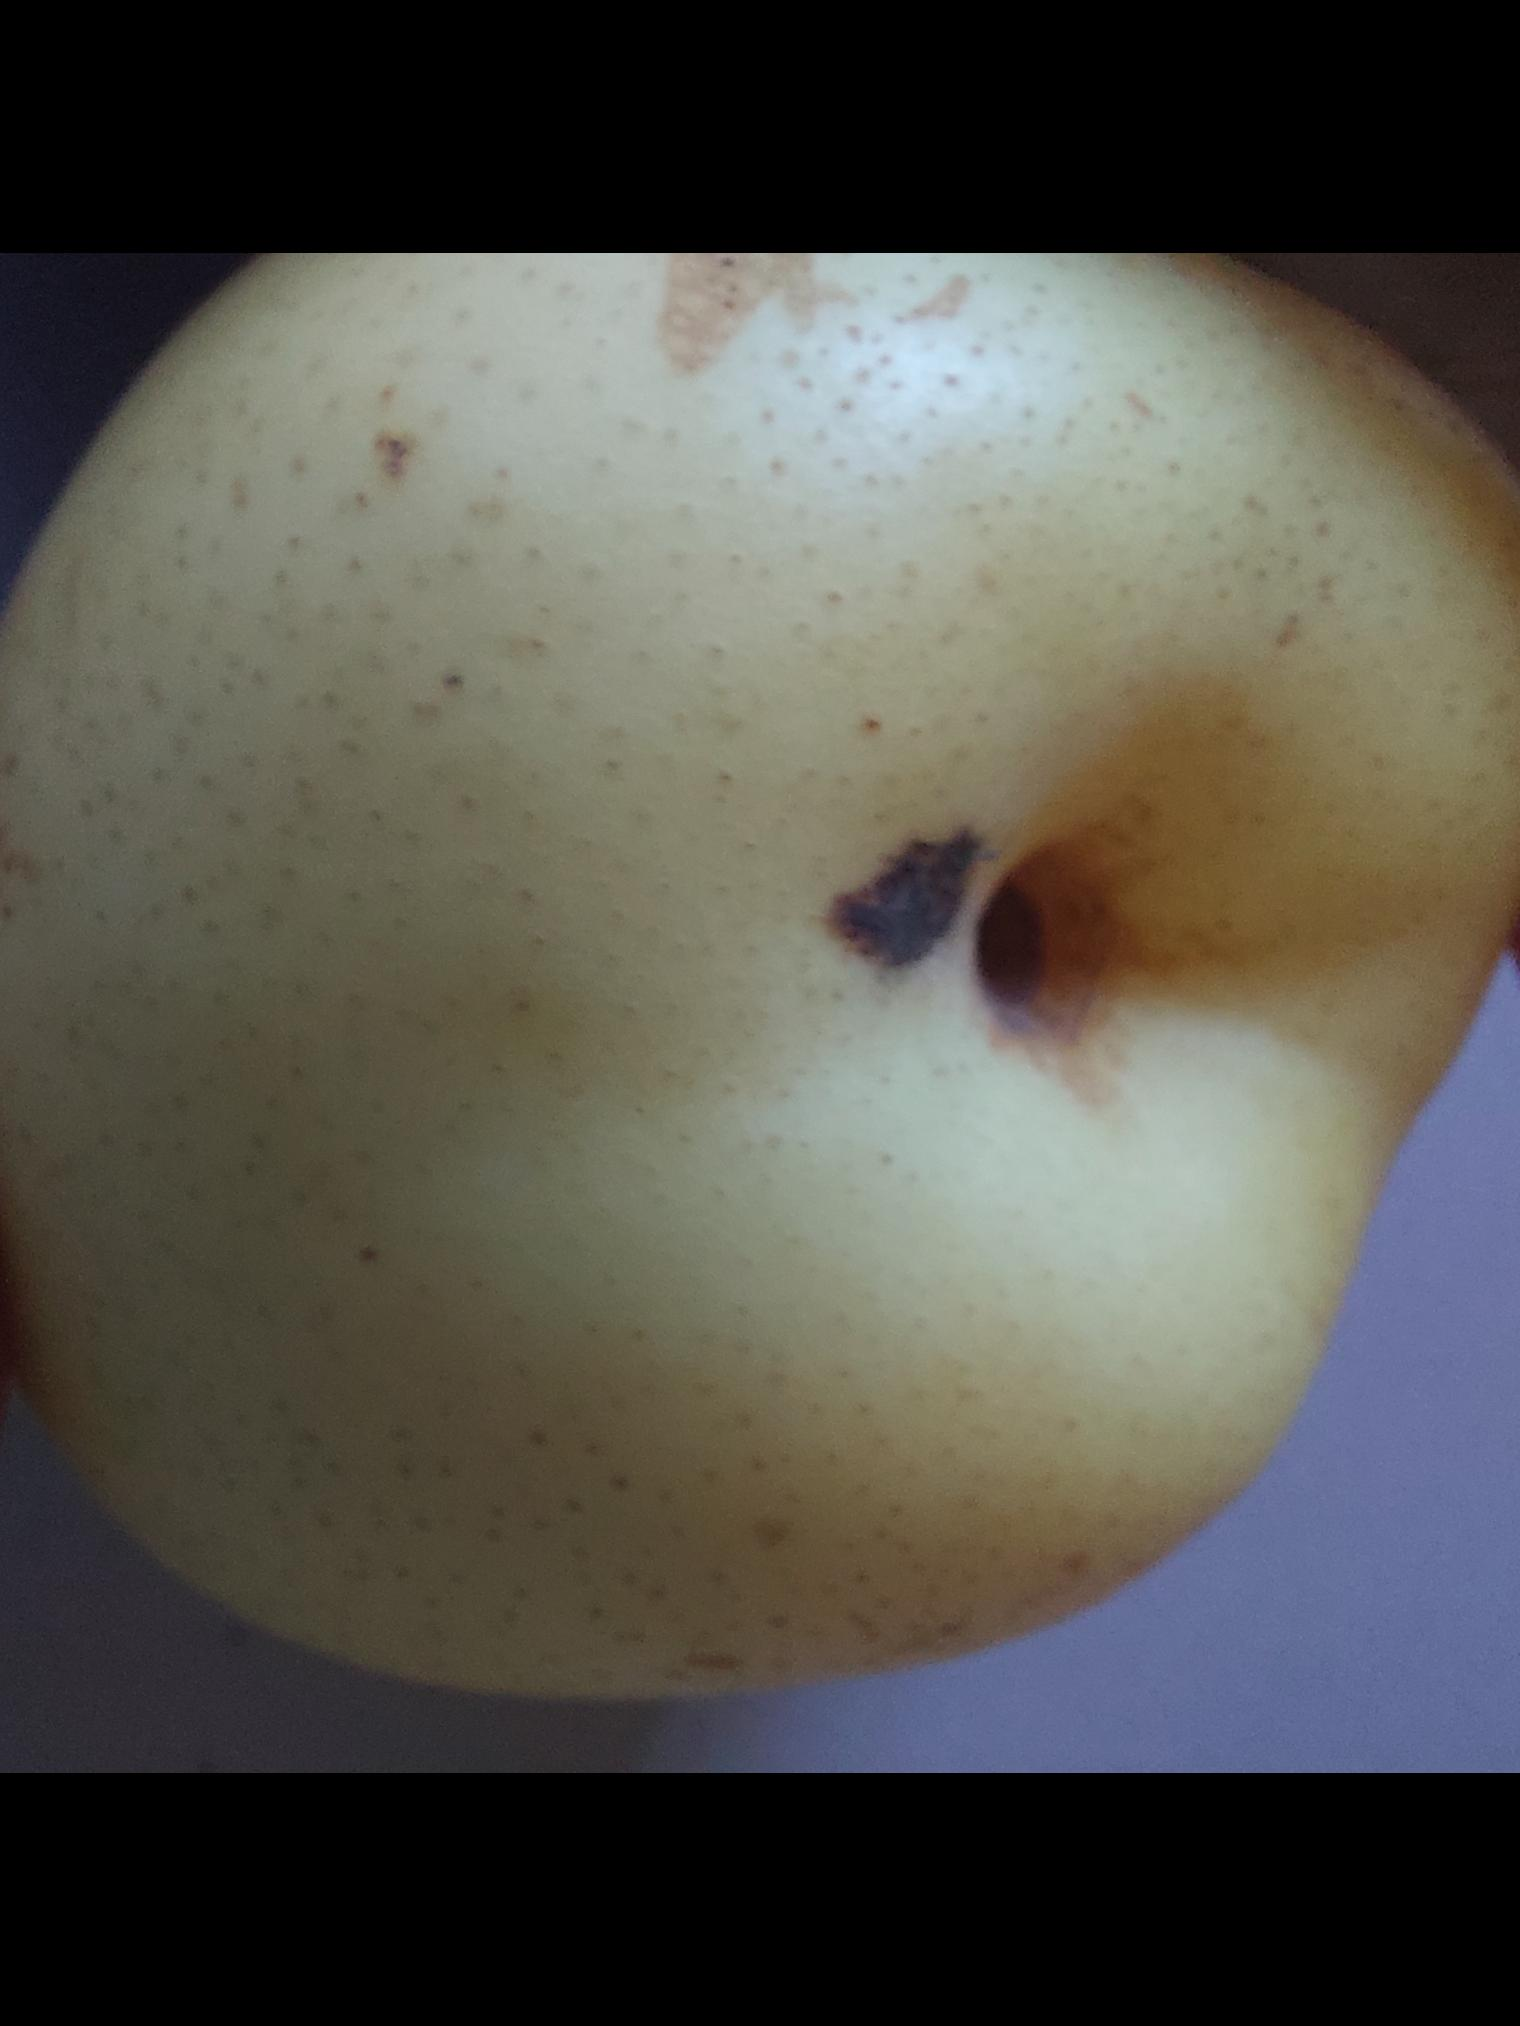Good Pear: (0, 252, 1520, 1713)
